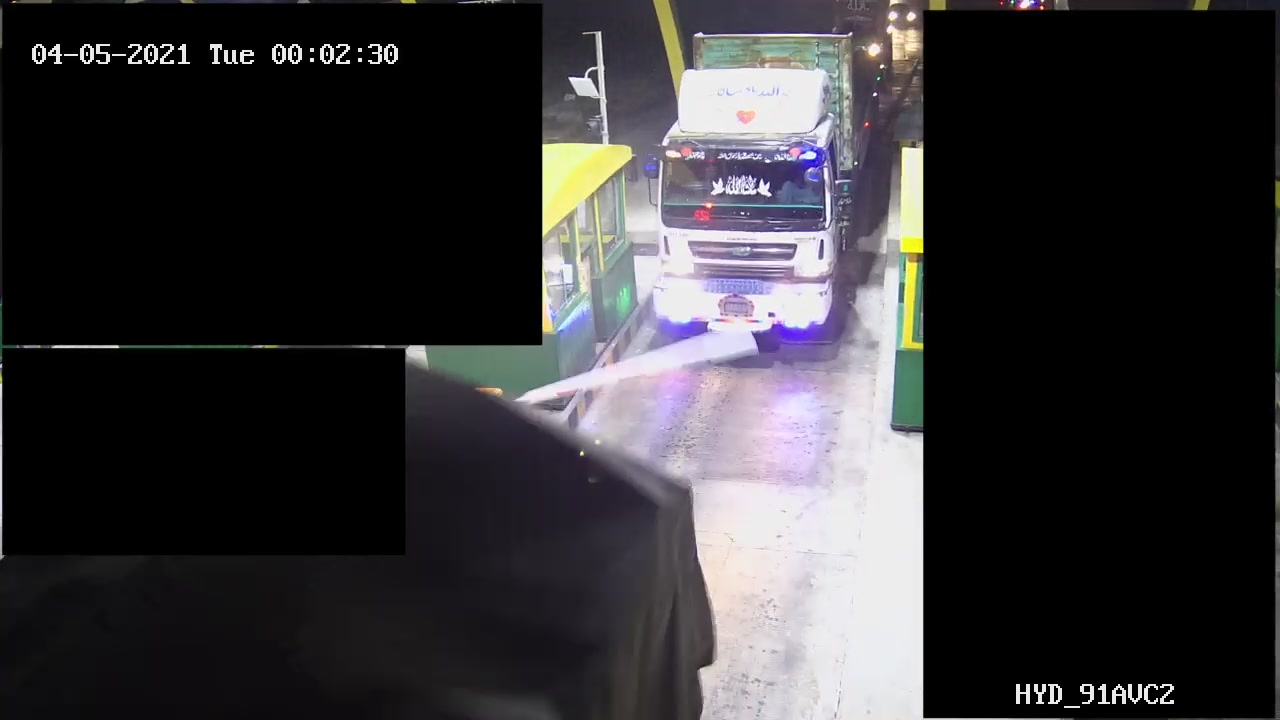F6: (653, 30, 882, 345)
